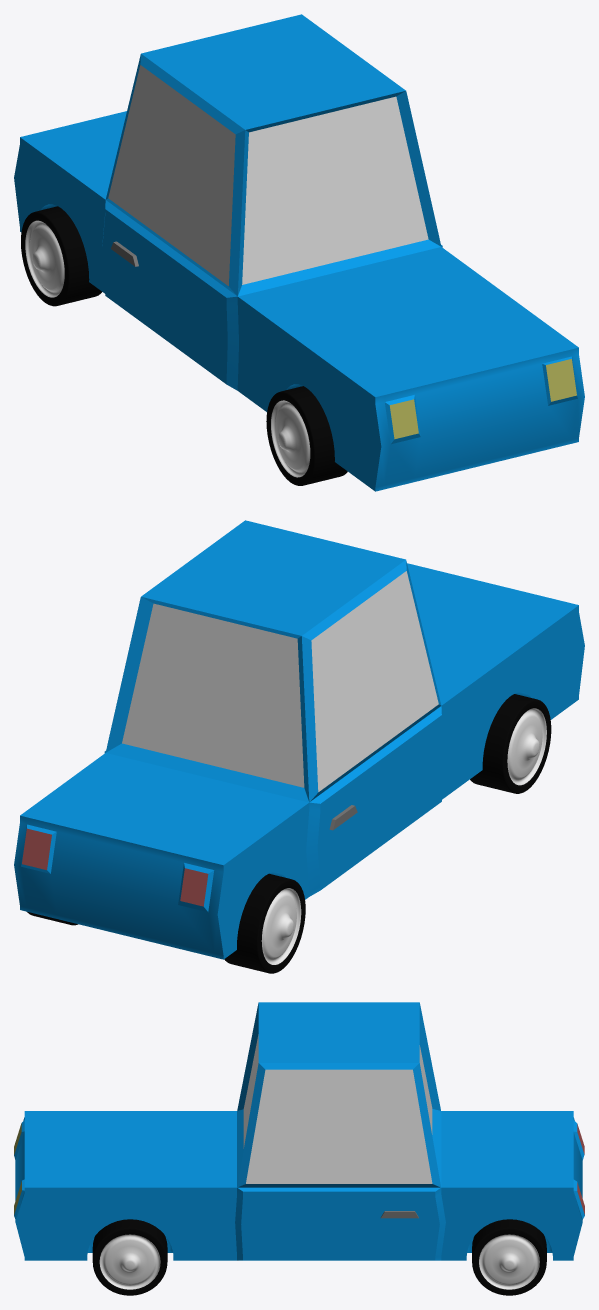
Rendered from CarBlue.fbx.
3 views of the same model, one above another, from view 1: azimuth 30°, elevation 25°; view 2: azimuth 150°, elevation 25°; view 3: azimuth 270°, elevation 25° (orthographic). The views are drawn at different scales.
Visible parts, largest first — view 1: MainCarBody, pCylinder16, pCylinder15; view 2: MainCarBody, pCylinder15, pCylinder16; view 3: MainCarBody, pCylinder13, pCylinder14.
Boxes of the visible parts, x1,y1,x2,y2 form: MainCarBody: (14, 14, 584, 491); pCylinder16: (266, 386, 347, 485); pCylinder15: (21, 206, 101, 306); MainCarBody: (14, 520, 584, 959); pCylinder15: (224, 873, 305, 973); pCylinder16: (470, 694, 551, 793); MainCarBody: (14, 1002, 584, 1260); pCylinder13: (92, 1219, 167, 1295); pCylinder14: (472, 1219, 546, 1295).
Bounding box in the file's own units: 64 × 67.48 × 160.
